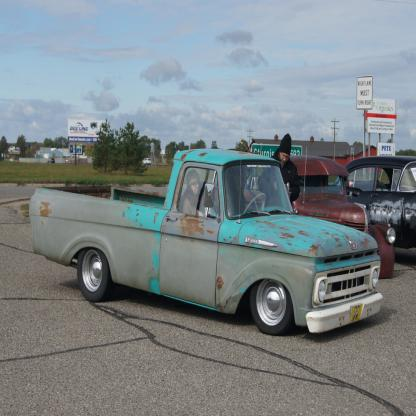car: (30, 122, 398, 343)
